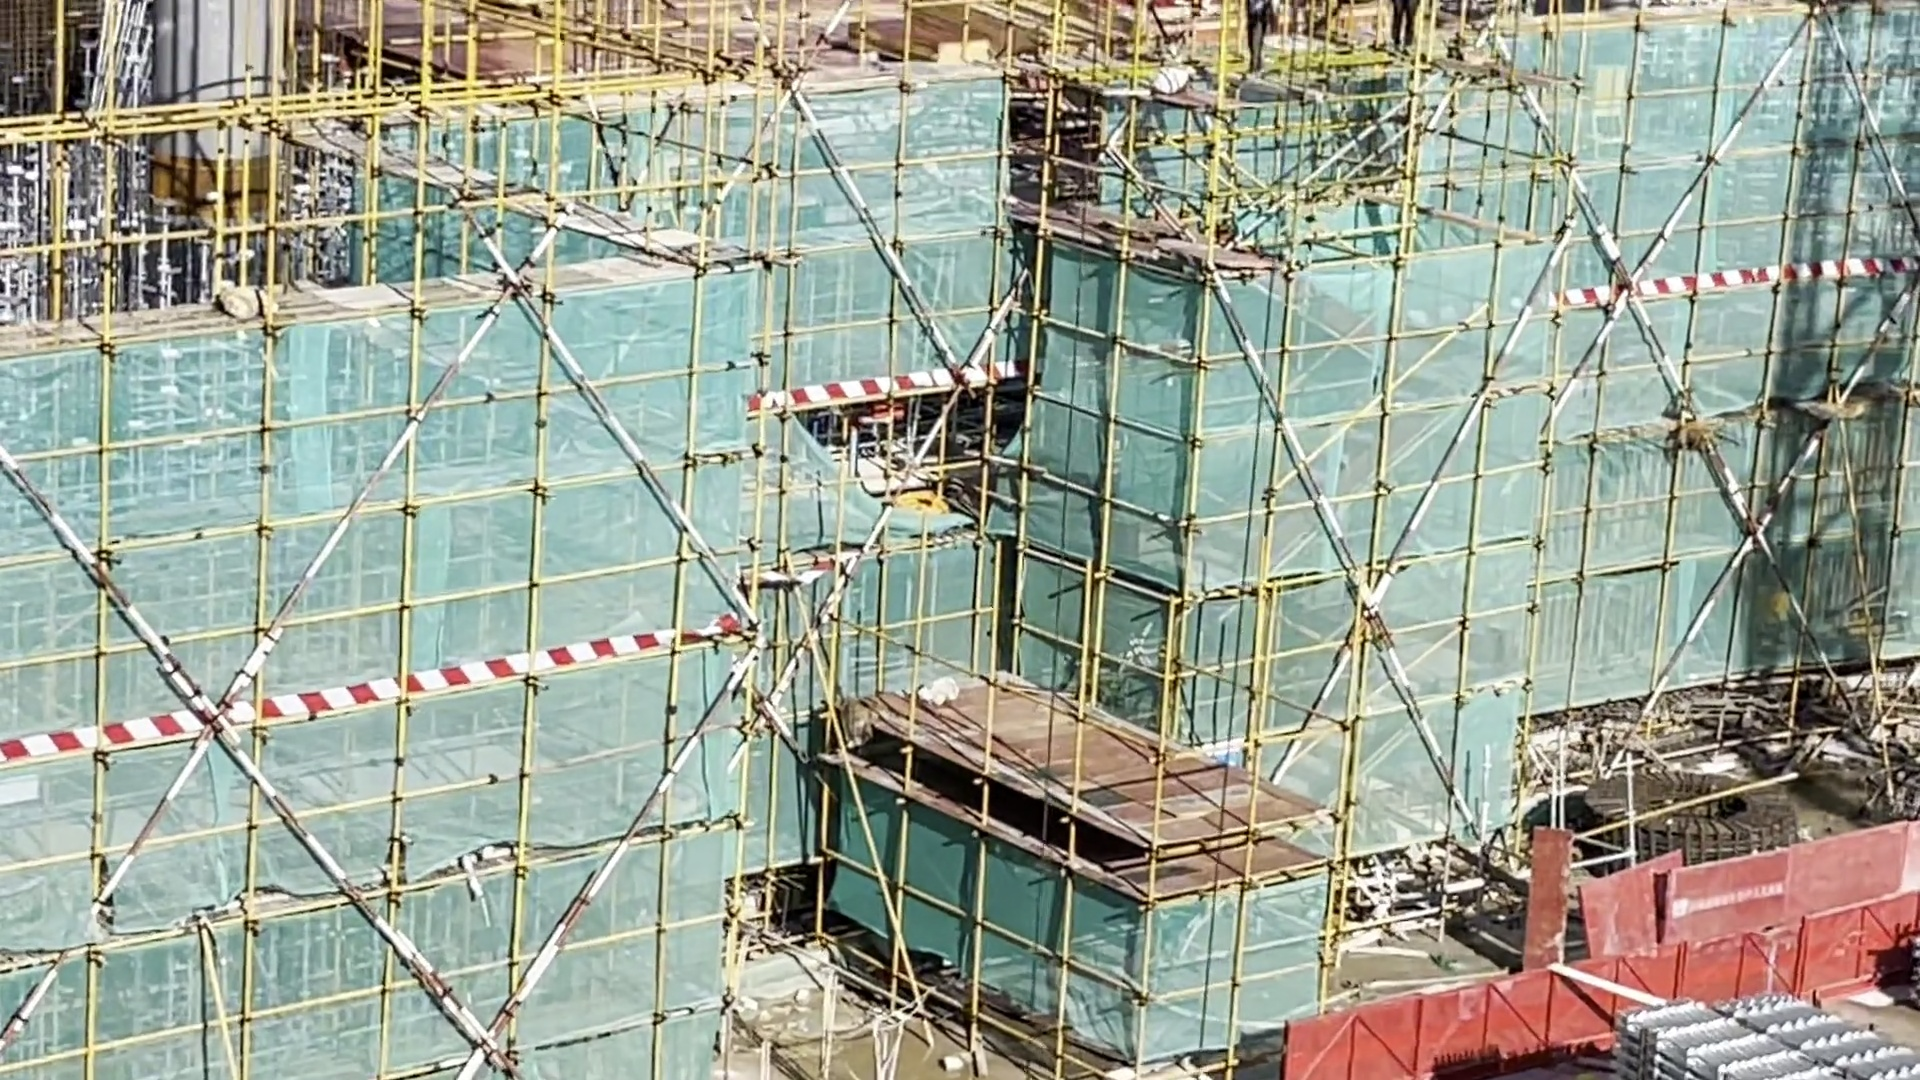ebox: (1589, 55, 1634, 160)
fence: (1282, 891, 1920, 1080)
scaffold: (1625, 1001, 1883, 1080)
